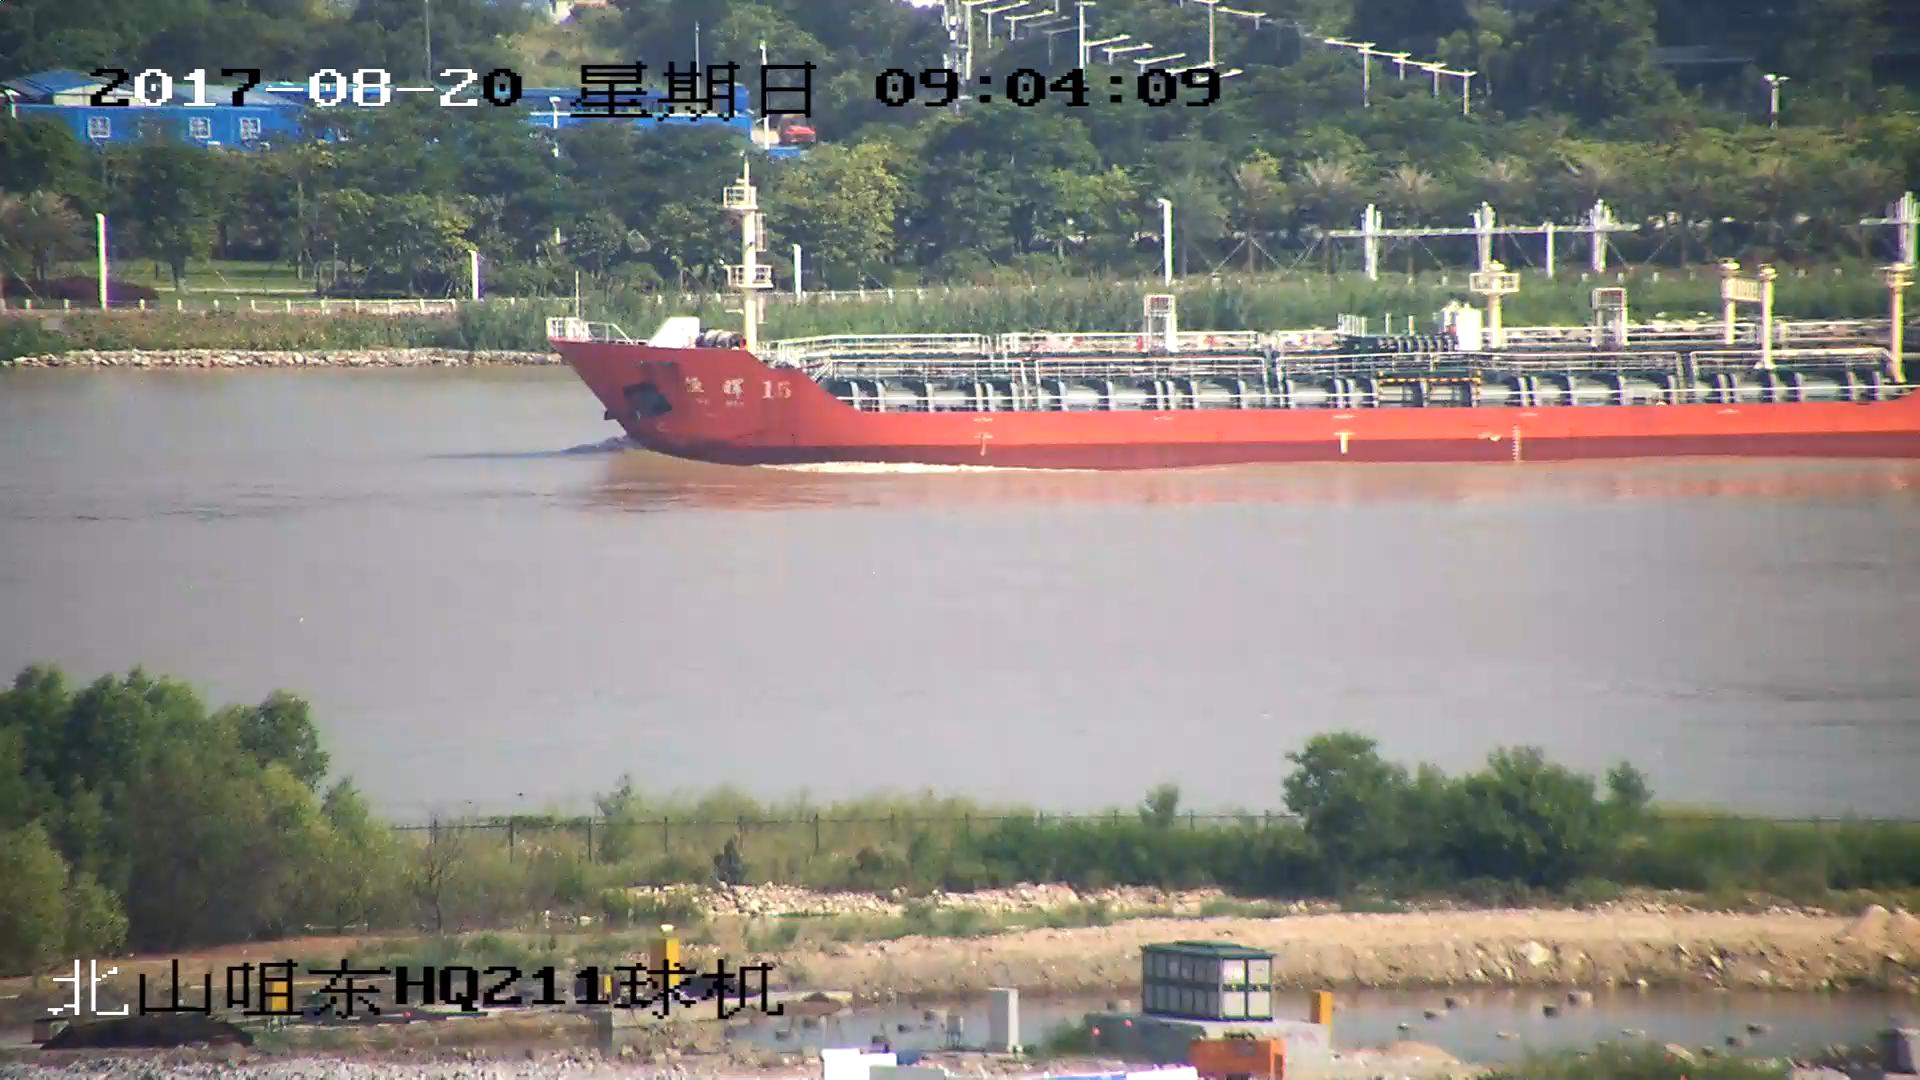general cargo ship: (545, 172, 1920, 469)
